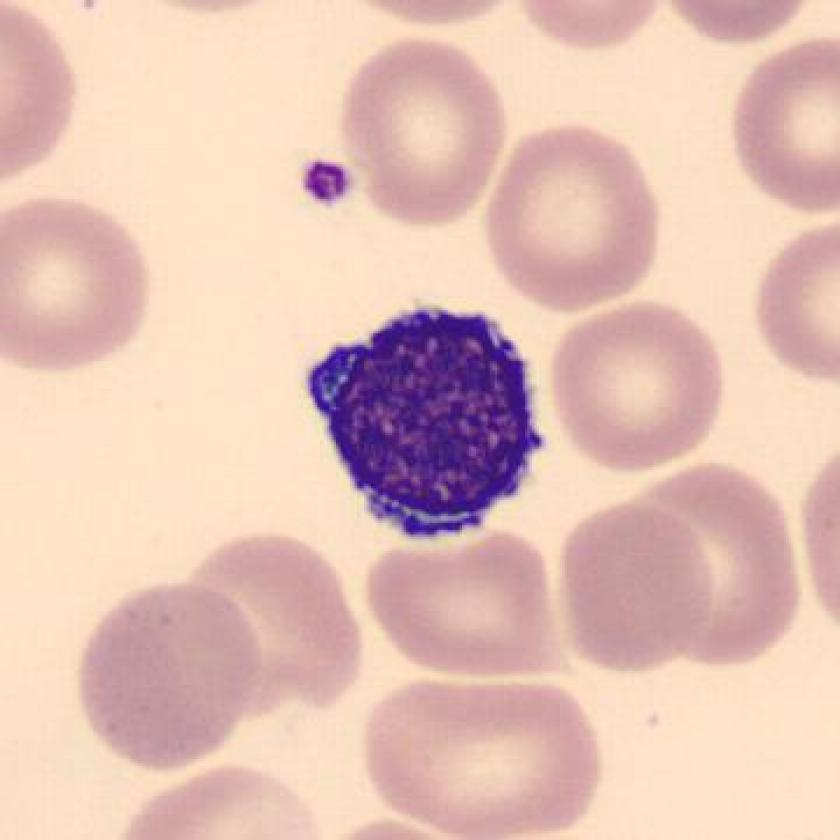lymphocyte: (305, 293, 564, 552)
